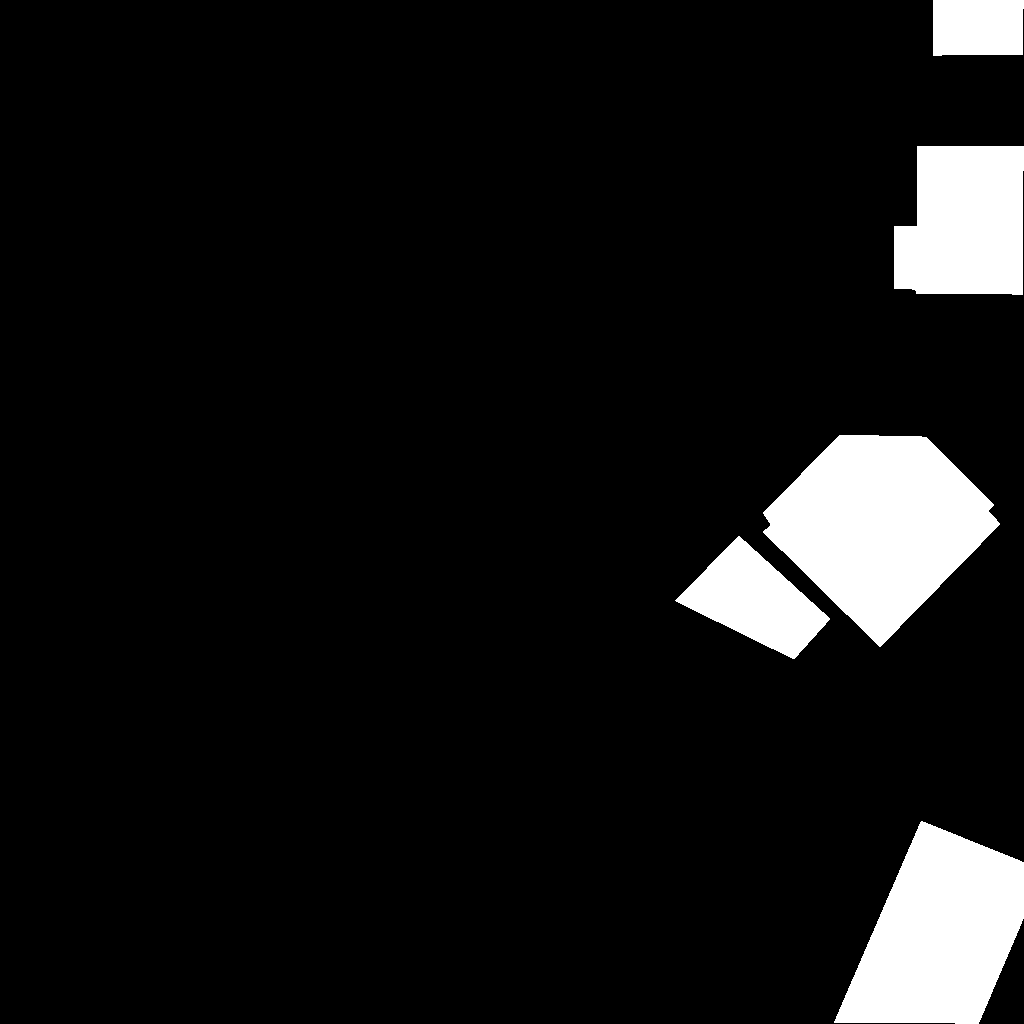building: (763, 435, 1001, 648), (834, 821, 1024, 1024), (894, 146, 1024, 295), (675, 536, 831, 660), (933, 0, 1024, 56)
